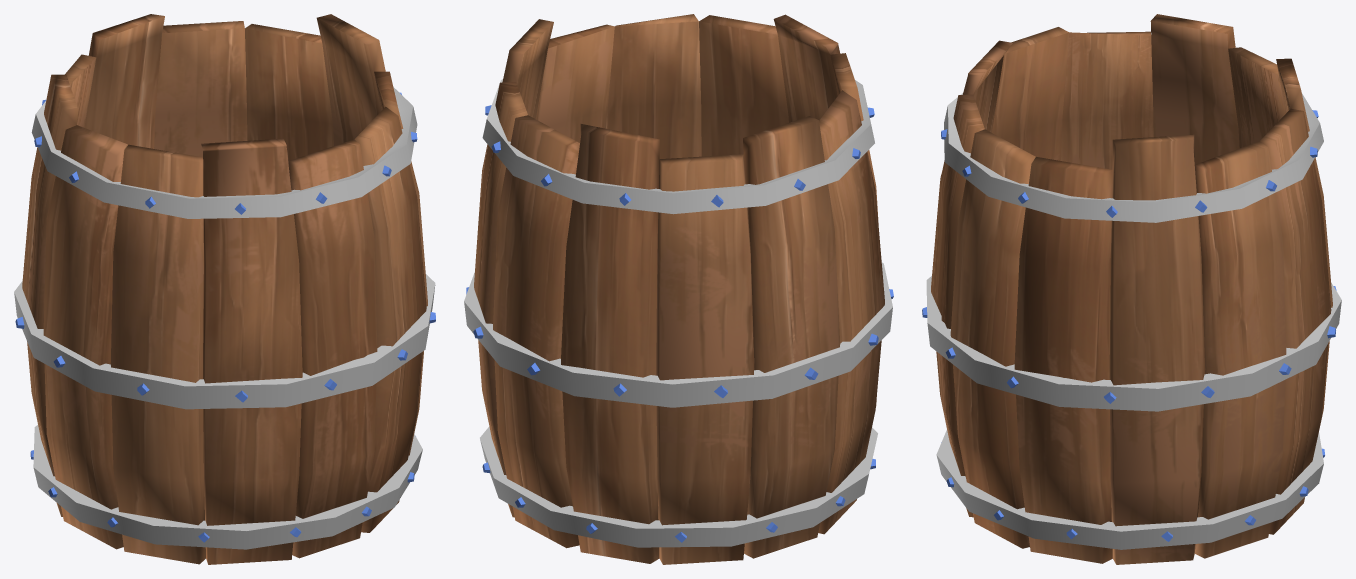
File: Barrel_Open.fbx
3 renders of one model, left to right at view 1: azimuth 30°, elevation 25°; view 2: azimuth 150°, elevation 25°; view 3: azimuth 270°, elevation 25°, orthographic. The views are drawn at different scales.
Visible parts, largest first — view 1: Barrel_Open; view 2: Barrel_Open; view 3: Barrel_Open.
Part boxes in pixels (x1,y1,x2,y2): Barrel_Open: (14, 14, 435, 564); Barrel_Open: (464, 14, 893, 564); Barrel_Open: (922, 14, 1341, 564).
Bounding box in the file's own units: 0.8496 × 0.9355 × 0.8532.
